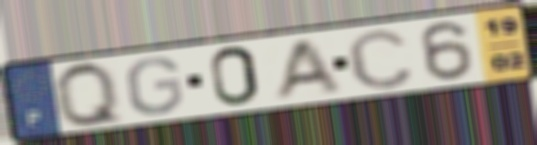0: (207, 44, 264, 108)
6: (417, 19, 475, 83)
A: (269, 36, 345, 103)
C: (343, 26, 418, 92)
G: (124, 55, 186, 117)
Q: (50, 59, 129, 130)
